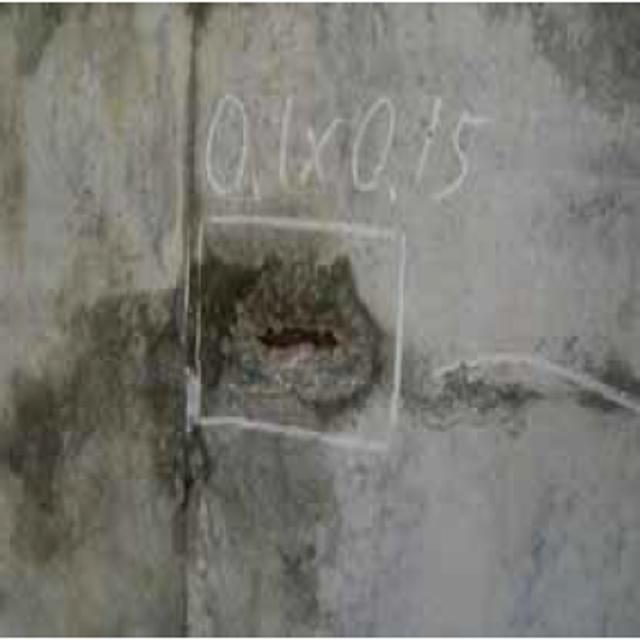spalling: (208, 244, 383, 427)
